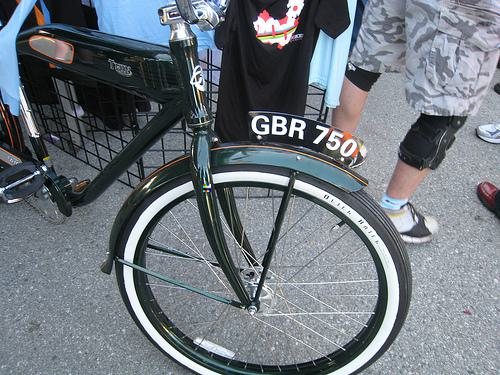car: (1, 1, 414, 375)
person: (338, 1, 500, 246)
